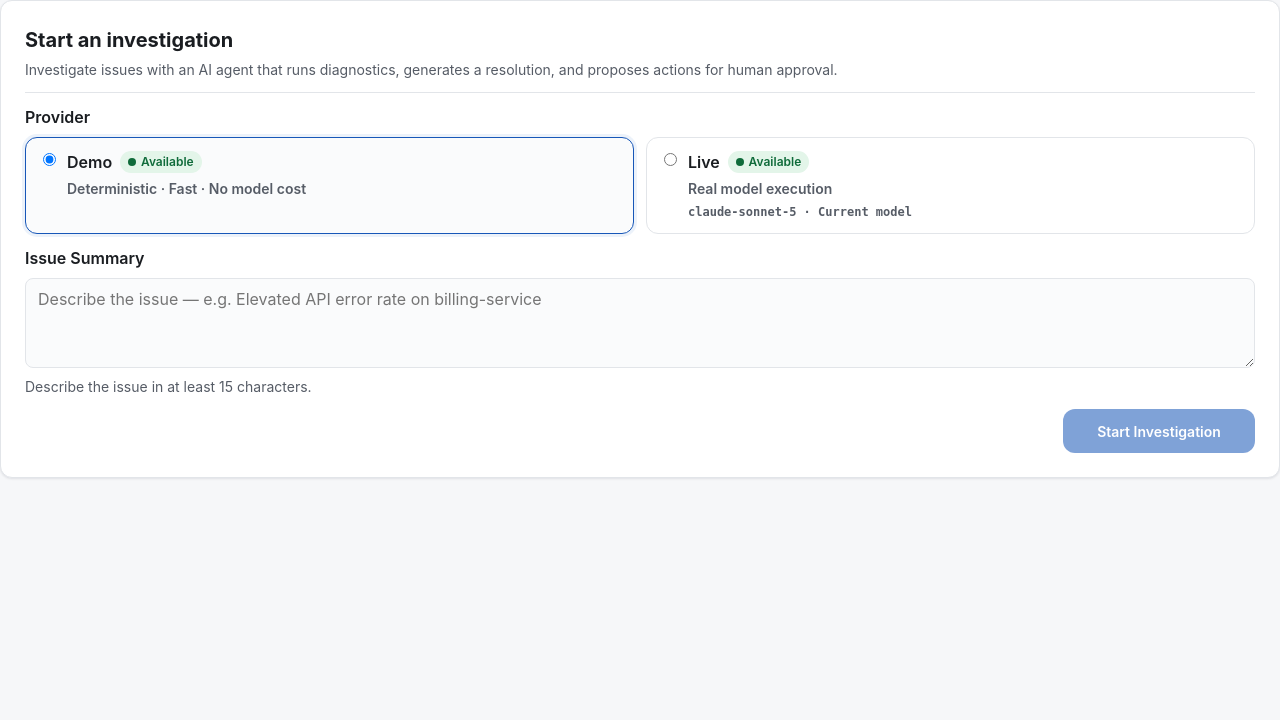
InvestigationForm — live access token containment › shows the token field only for LIVE when a token is required
The width and height of the screenshot is (1280, 720).
Expected: the field labelled "Live demo access token" is not shown
Click the radio button labelled "Live" at (670, 160), box x1=664 y1=153 x2=677 y2=166
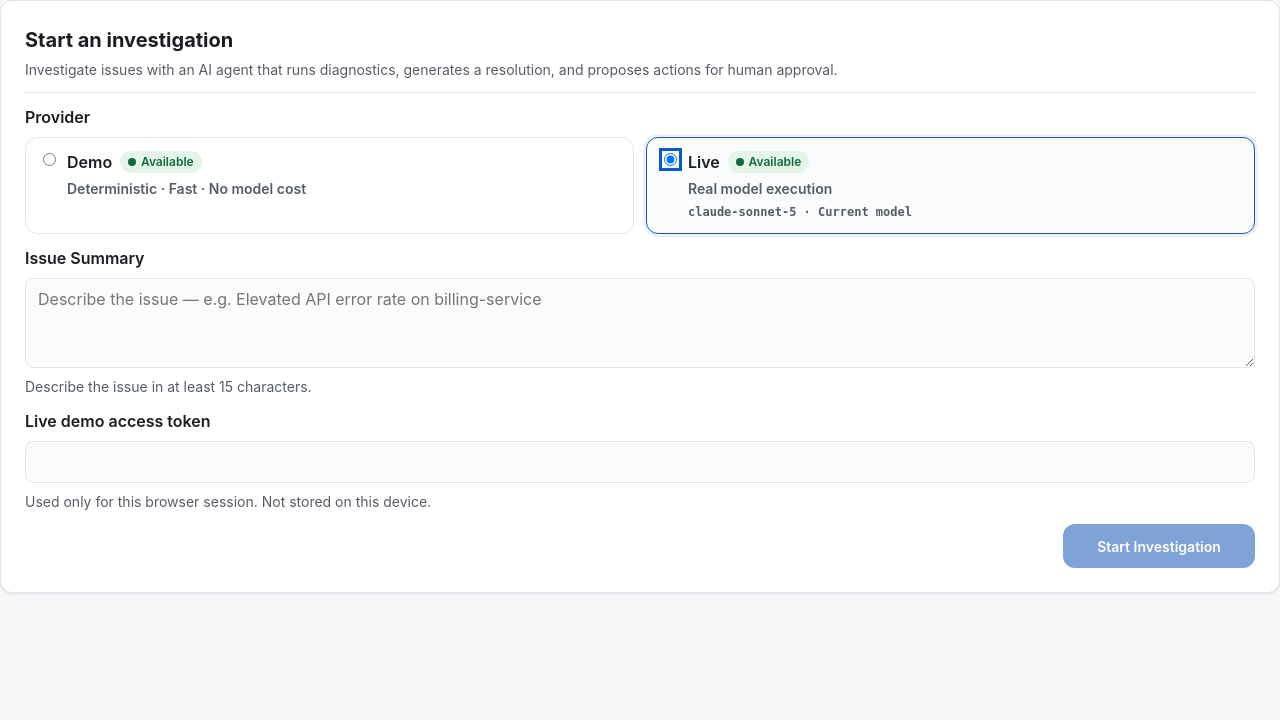
Expected: the password field labelled "Live demo access token" is shown, x1=25 y1=441 x2=1255 y2=483
